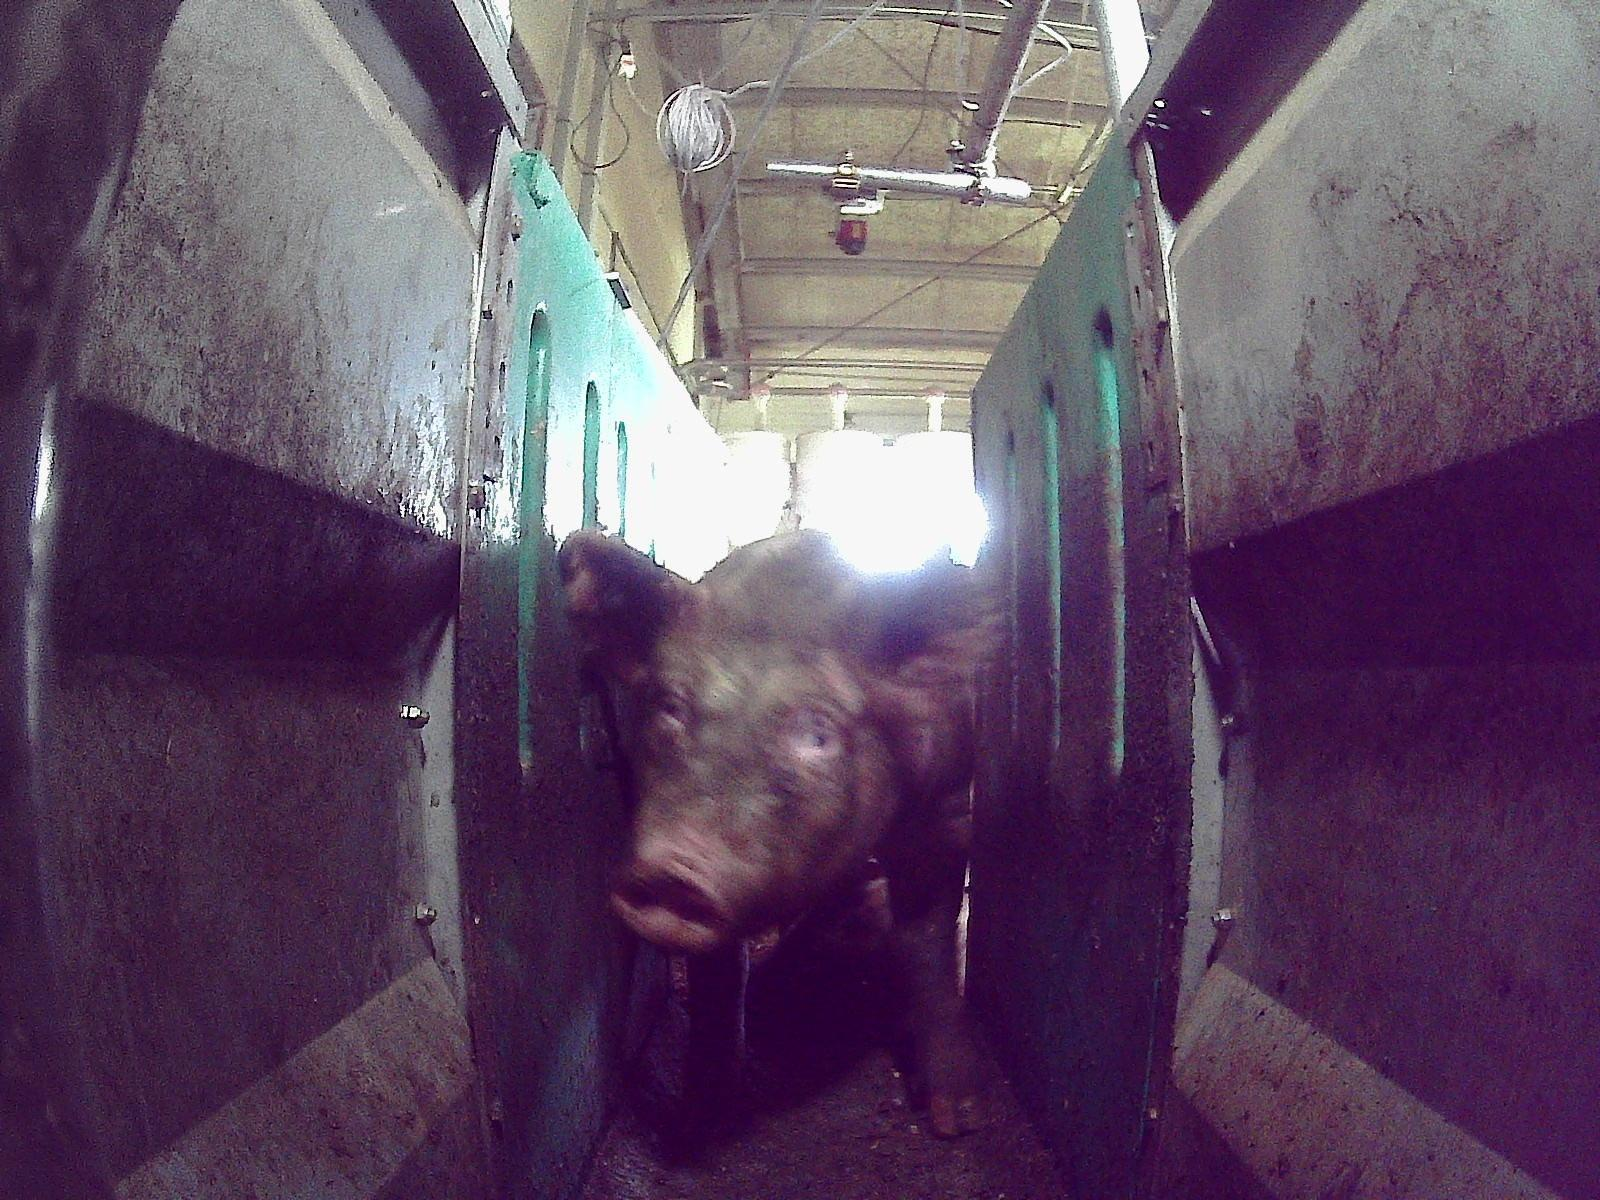Face: (605, 582, 883, 951)
